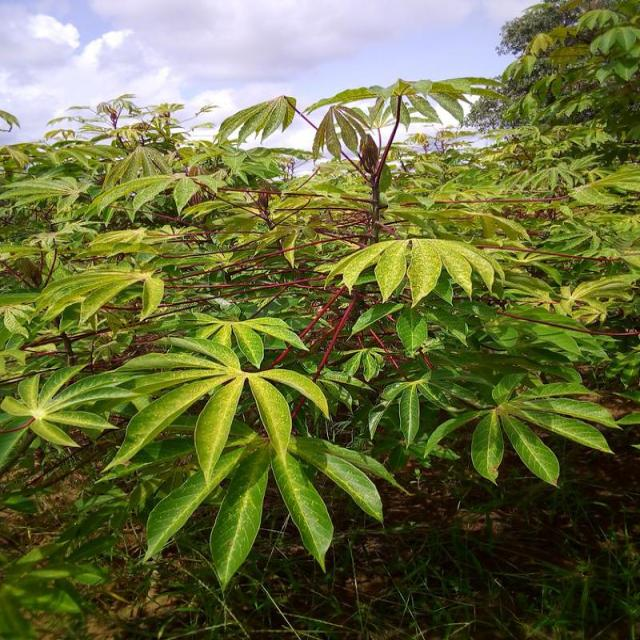cassava leaf: (6, 309, 399, 589), (326, 235, 497, 308)
